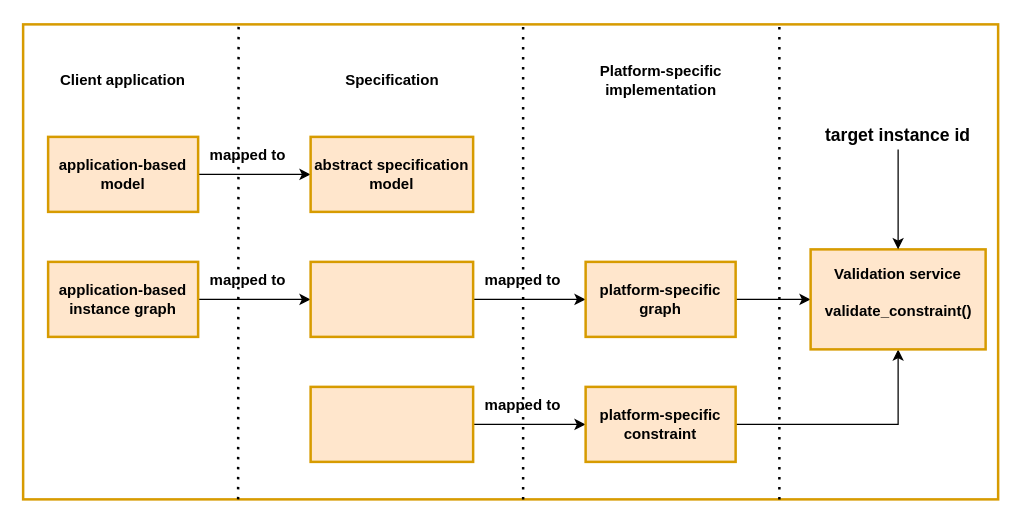
Some shapes in this 1020 by 524 pixel diagram are drawn without their labels. Each missing label, with the box of its shape:
abstract specification constraint: (309, 385, 474, 462)
abstract specification graph: (309, 260, 474, 338)
